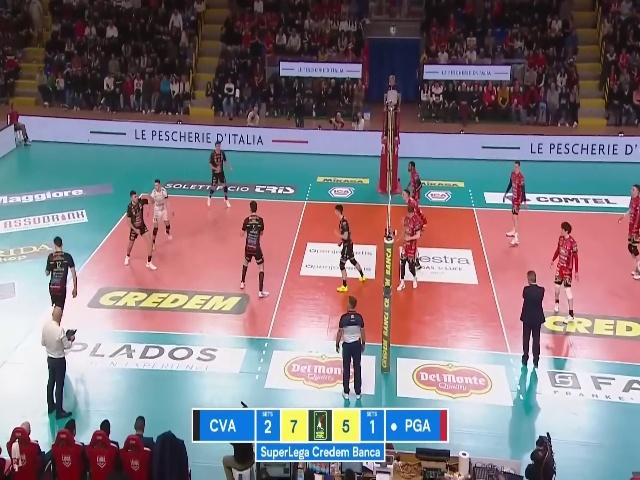volleyball court: (61, 193, 638, 365)
